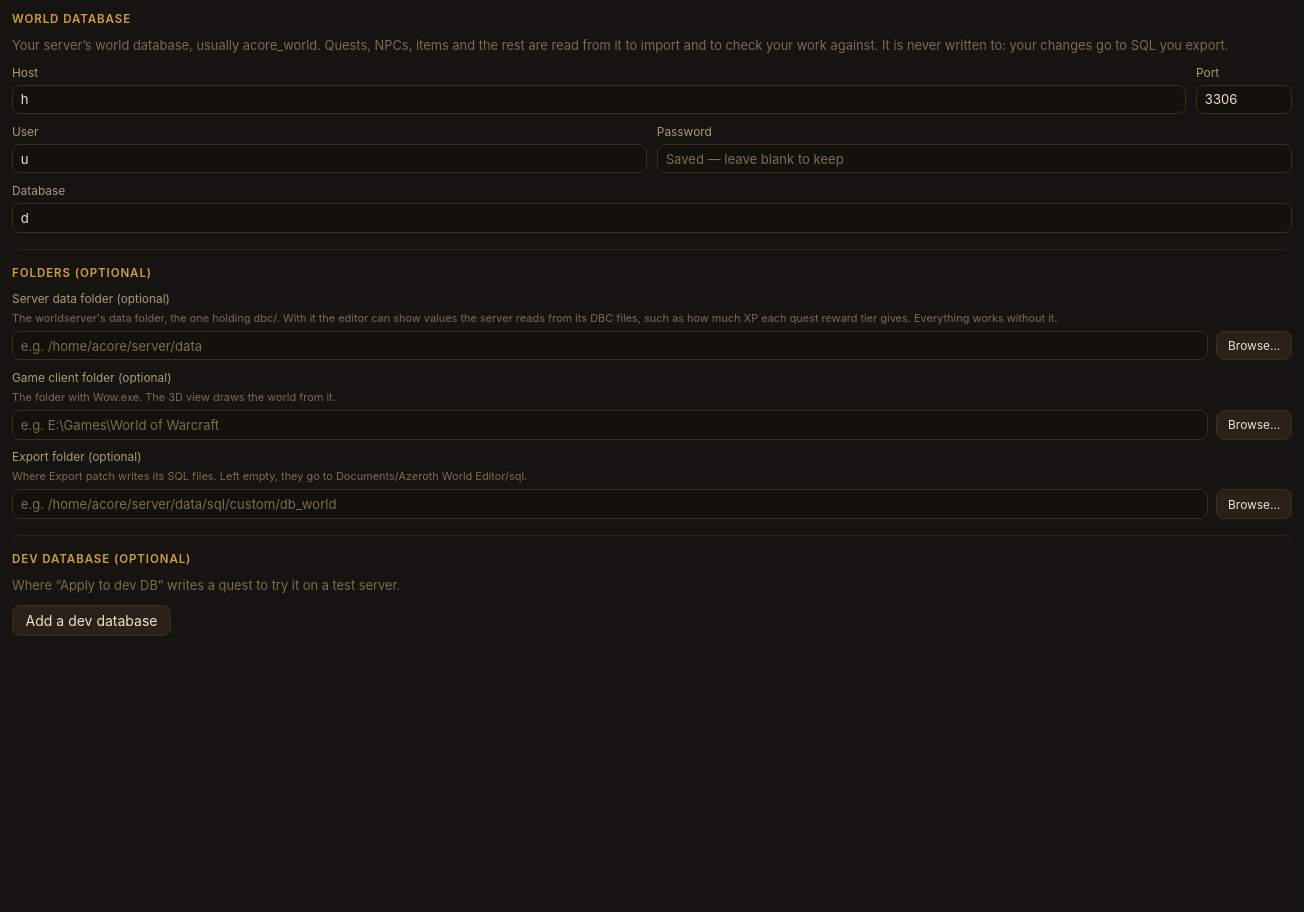
it: ConnectionFields › adds and removes the dev database
expect the field labelled "Dev host" is not shown: met
Step 1. Click the button "Add a dev database" → (92, 621), box [12, 605, 171, 636]
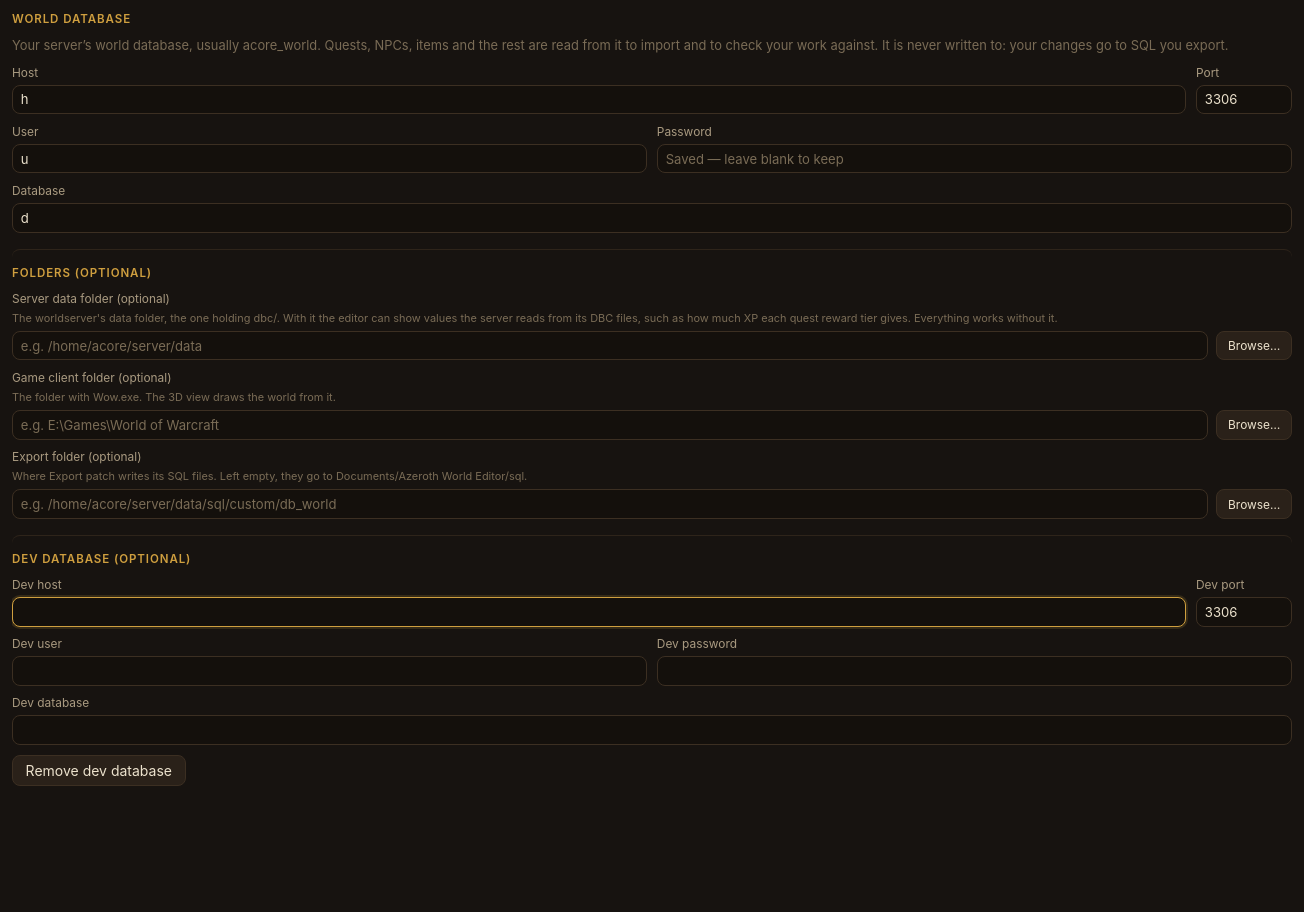
Step 2. Type "devhost" into the field labelled "Dev host" → (599, 612), box [12, 597, 1186, 627]
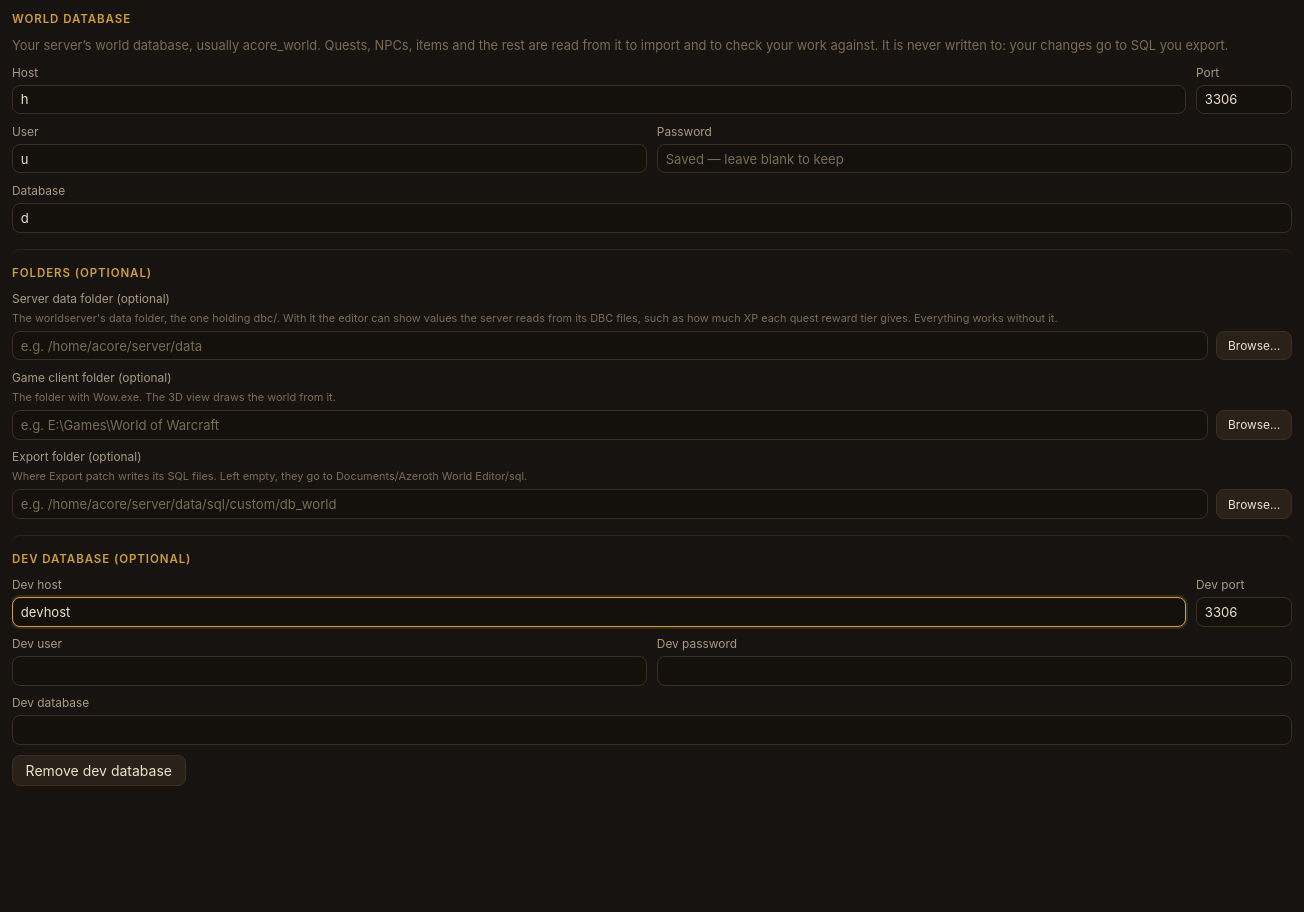
expect the field labelled "Dev port" holds "3306": met, box [1196, 597, 1292, 627]
Step 3. Click the button "Remove dev database" → (99, 770), box [12, 755, 186, 786]
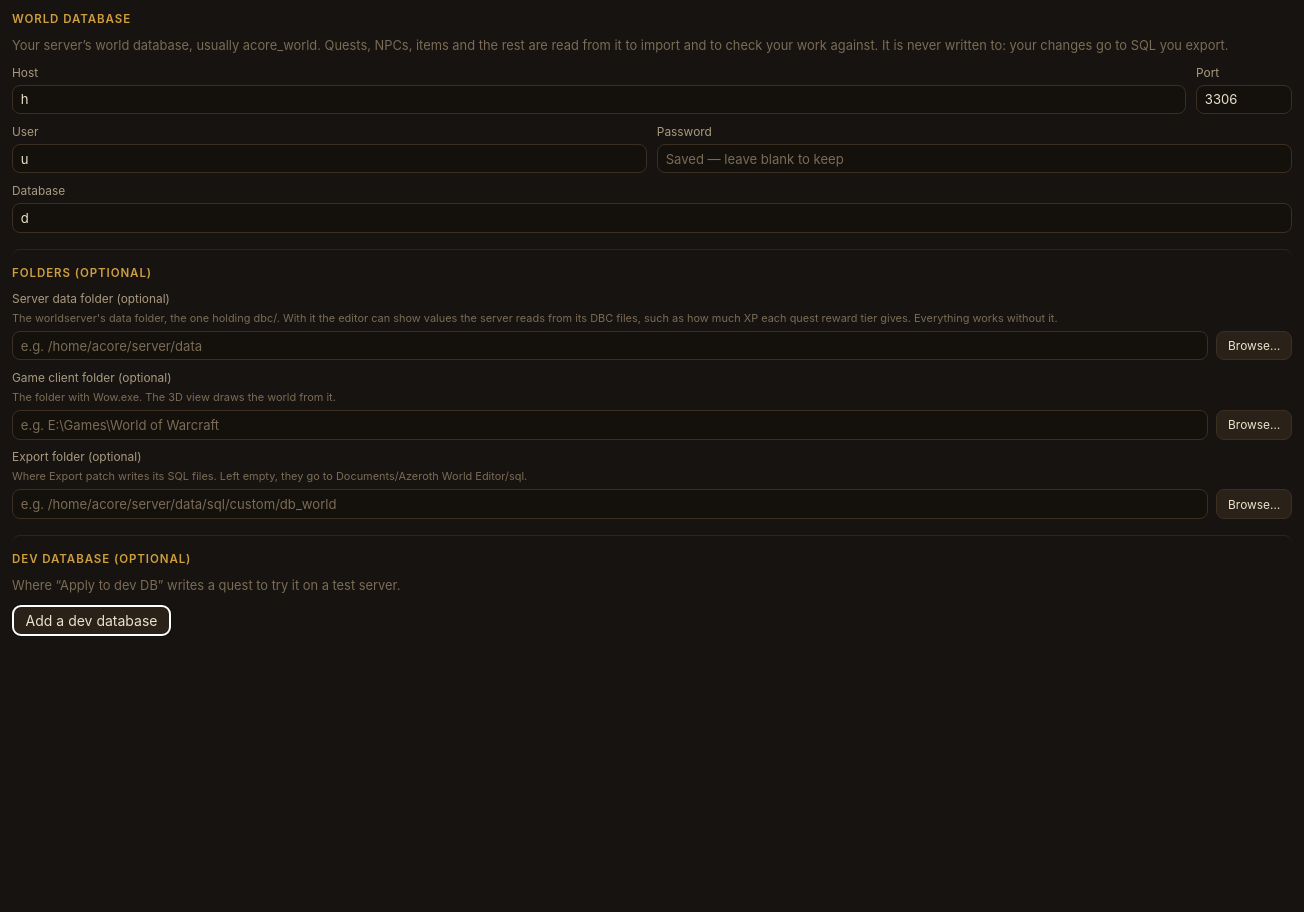
expect the button "Add a dev database" is shown: met, box [12, 605, 171, 636]
